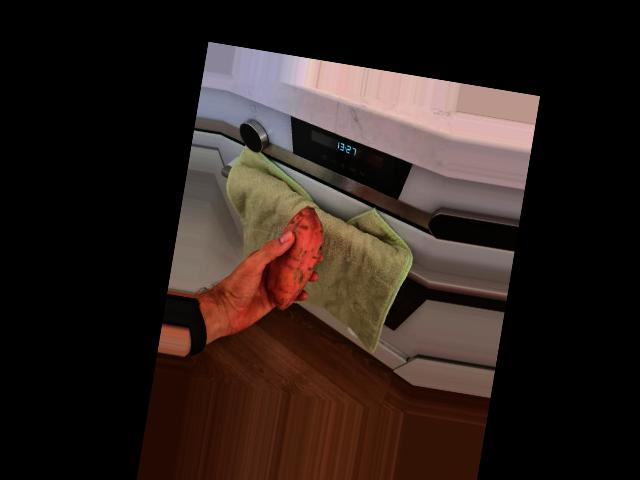sweet_potato: (262, 202, 326, 317)
